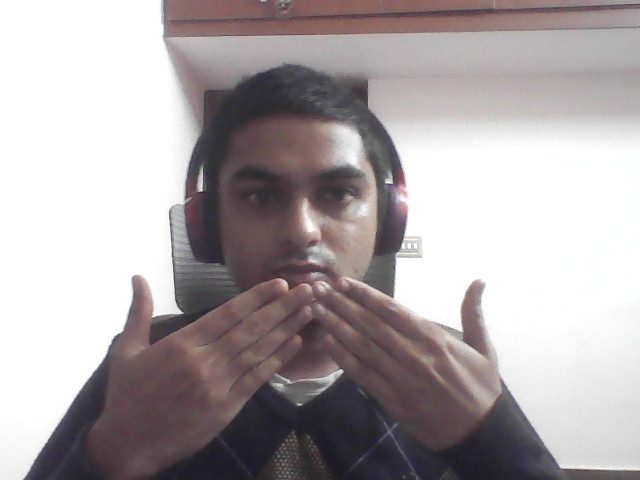Thank You: (86, 251, 518, 455)
